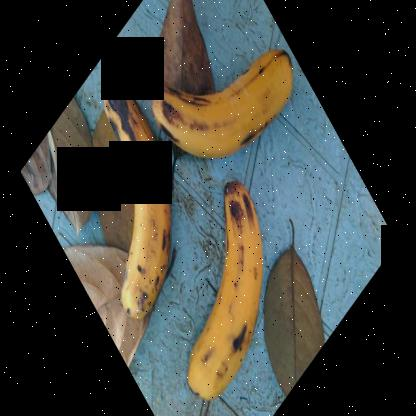overripe: (94, 78, 176, 321)
ripe: (172, 175, 266, 412), (149, 24, 304, 166)
